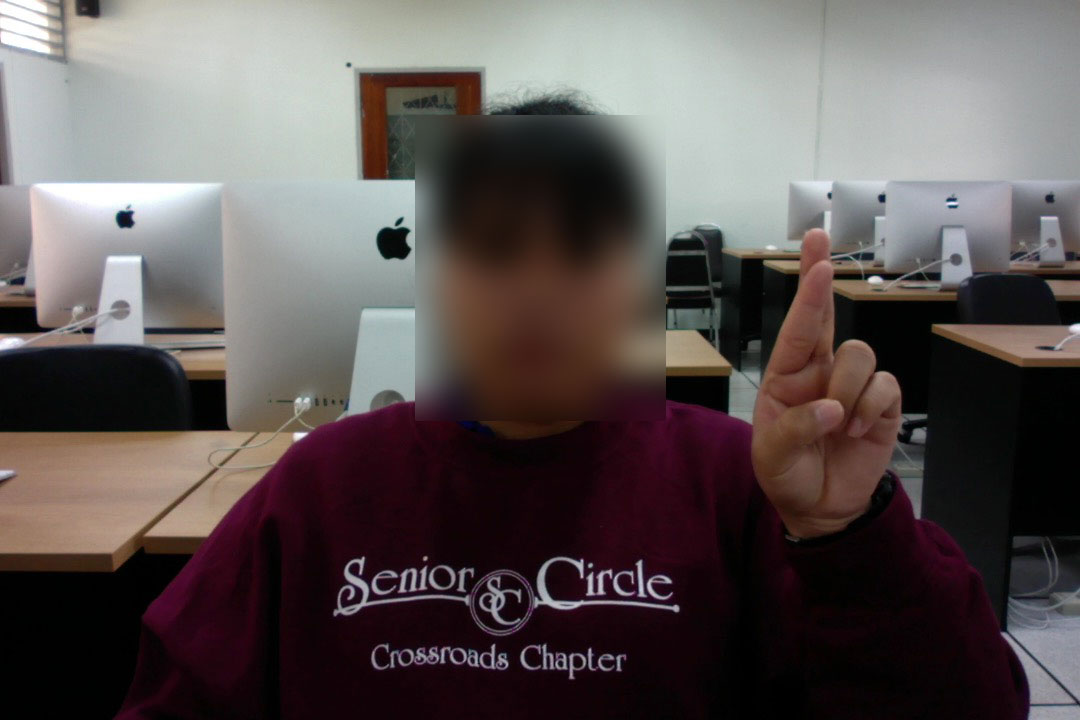rao: (735, 231, 909, 525)
